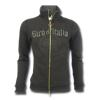abbigliamento_uomo: (16, 7, 83, 95)
